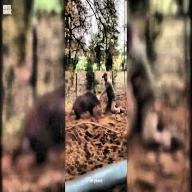boar: (68, 79, 105, 127)
